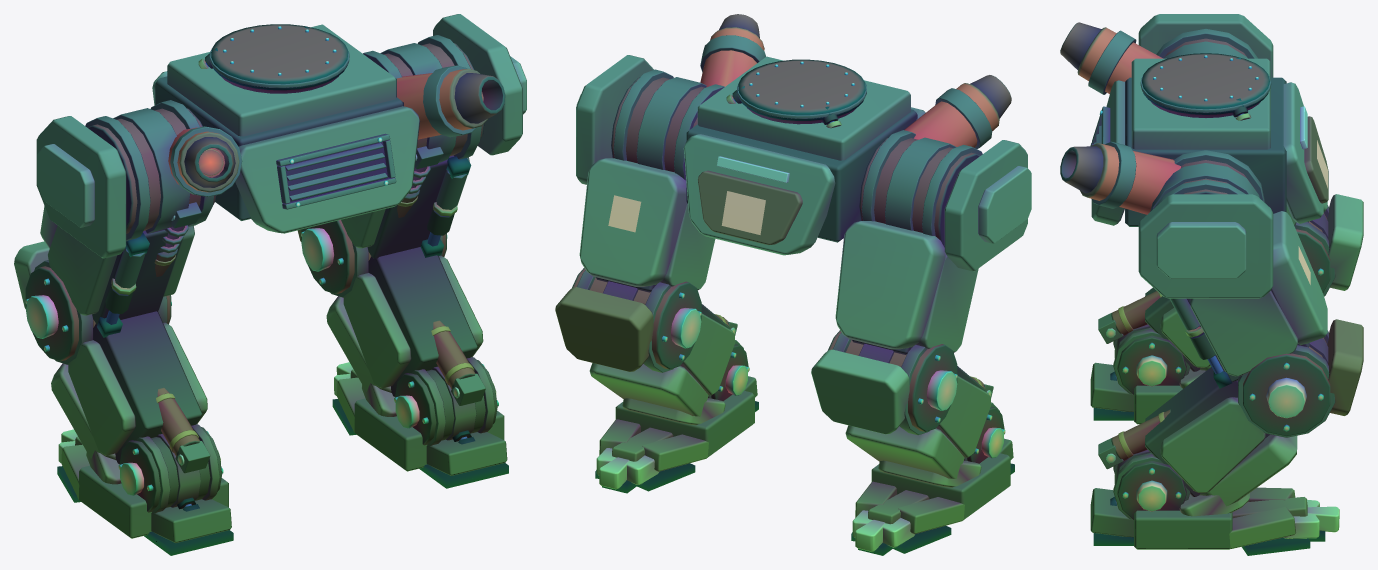
The model's file is legs_biped_scout.glb.
The picture shows the model from 3 angles, left to right: view 1: azimuth 30°, elevation 25°; view 2: azimuth 150°, elevation 25°; view 3: azimuth 270°, elevation 25°; orthographic projection. The views are drawn at different scales.
Visible parts, largest first — view 1: Body__armor_sub, Body__dark, Leg_L__armor_sub, Leg_L__dark, Leg_R_Knee__dark, Leg_L__gunmetal, Leg_L_Knee__dark, Leg_R_Ankle__gunmetal, Leg_L_Ankle__gunmetal, Body__gunmetal, Leg_R__dark, Leg_R__armor_sub (+21 smaller); view 2: Leg_L__armor, Body__dark, Leg_R__armor, Leg_L__armor_sub, Body__armor_oxide, Body__armor_sub, Body__armor, Leg_L__gunmetal, Leg_R__armor_sub, Leg_R__gunmetal, Leg_R__armor_oxide, Leg_L__dark (+23 smaller); view 3: Leg_R__armor_sub, Body__dark, Leg_R__armor, Body__armor_sub, Leg_R_Ankle__gunmetal, Body__armor_oxide, Leg_R_Knee__armor_sub, Leg_R__dark, Leg_R__gunmetal, Leg_R_Knee__dark, Body__gunmetal, Leg_L_Ankle__gunmetal (+21 smaller).
Part boxes in pixels (<box>): Body__armor_sub: <box>167,24,420,233</box>; Body__dark: <box>155,24,505,220</box>; Leg_L__armor_sub: <box>36,116,194,315</box>; Leg_L__dark: <box>25,108,216,361</box>; Leg_R_Knee__dark: <box>368,247,477,396</box>; Leg_L__gunmetal: <box>34,100,214,364</box>; Leg_L_Knee__dark: <box>93,311,202,463</box>; Leg_R_Ankle__gunmetal: <box>354,357,507,475</box>; Leg_L_Ankle__gunmetal: <box>79,424,231,542</box>; Body__gunmetal: <box>170,47,476,209</box>; Leg_R__dark: <box>301,43,484,294</box>; Leg_R__armor_sub: <box>341,14,522,248</box>; Leg_L__armor: <box>811,166,1031,434</box>; Body__dark: <box>686,14,1011,242</box>; Leg_R__armor: <box>576,94,687,286</box>; Leg_L__armor_sub: <box>916,140,1027,352</box>; Body__armor_oxide: <box>697,27,999,245</box>; Body__armor_sub: <box>697,56,925,160</box>; Body__armor: <box>683,134,835,255</box>; Leg_L__gunmetal: <box>832,130,982,435</box>; Leg_R__armor_sub: <box>576,55,715,289</box>; Leg_R__gunmetal: <box>577,69,724,372</box>; Leg_R__armor_oxide: <box>555,287,653,371</box>; Leg_L__dark: <box>828,138,979,431</box>; Leg_R__armor_sub: <box>1138,194,1297,376</box>; Body__dark: <box>1060,22,1286,226</box>; Leg_R__armor: <box>1156,211,1327,345</box>; Body__armor_sub: <box>1091,58,1270,225</box>; Leg_R_Ankle__gunmetal: <box>1090,449,1232,549</box>; Body__armor_oxide: <box>1077,27,1328,214</box>; Leg_R_Knee__armor_sub: <box>1160,397,1265,492</box>; Leg_R__dark: <box>1180,160,1330,436</box>; Leg_R__gunmetal: <box>1150,150,1335,437</box>; Leg_R_Knee__dark: <box>1111,367,1269,496</box>; Body__gunmetal: <box>1088,30,1271,208</box>; Leg_L_Ankle__gunmetal: <box>1090,324,1190,424</box>.
Bounding box in the file's own units: 2.13 × 1.94 × 1.35.
